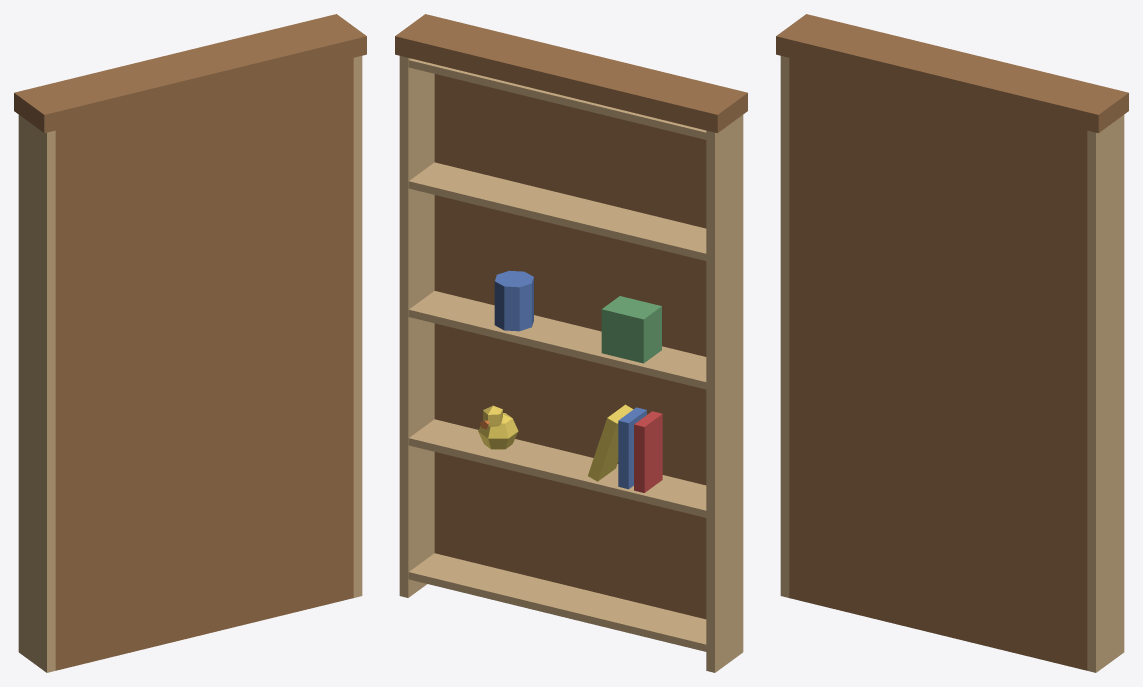
Rendered from estanteria_gigante.glb.
3 renders of one model, left to right at view 1: azimuth 30°, elevation 25°; view 2: azimuth 150°, elevation 25°; view 3: azimuth 330°, elevation 25°, orthographic.
Parts seen in each view (by area): view 1: estanteria_gigante; view 2: estanteria_gigante; view 3: estanteria_gigante.
Part boxes in pixels (box(x1,y1,x2,y2)): estanteria_gigante: box(14, 14, 366, 672); estanteria_gigante: box(395, 14, 747, 672); estanteria_gigante: box(776, 14, 1128, 672).
Size of the model in its own units: 1.84 by 3.05 by 0.32.
